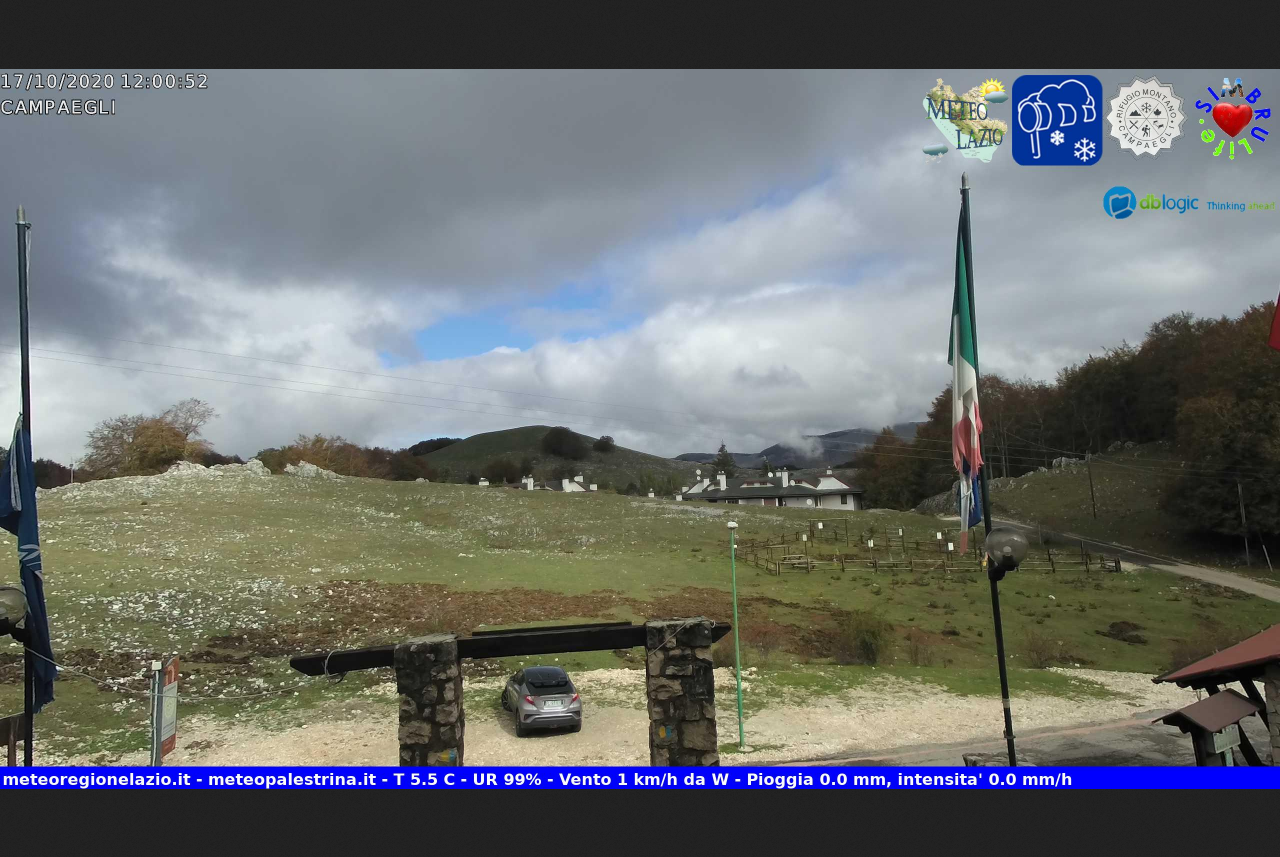no: (943, 190, 992, 556), (1, 400, 57, 717)
